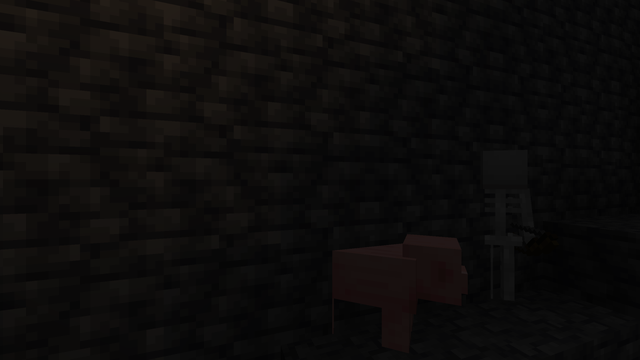cochons: (332, 241, 431, 355)
squelettes: (478, 149, 534, 310)
